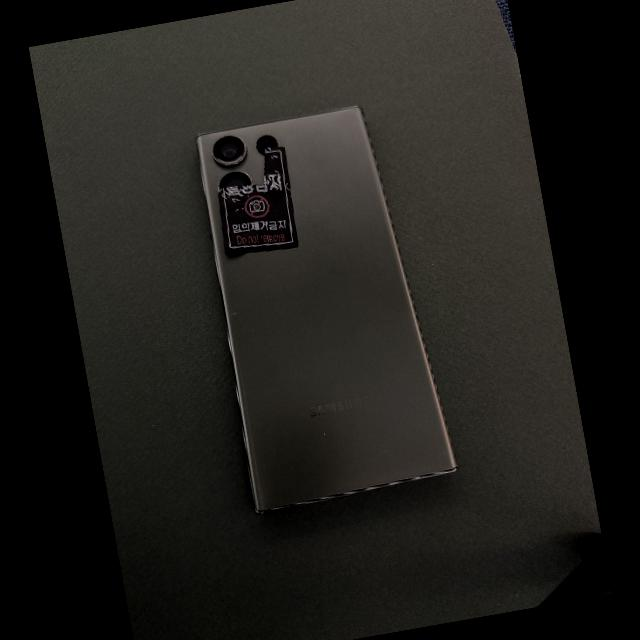lens: (213, 134, 246, 165), (219, 171, 251, 189), (258, 136, 277, 153)
phone: (196, 104, 457, 513)
sticker: (218, 146, 299, 254)
